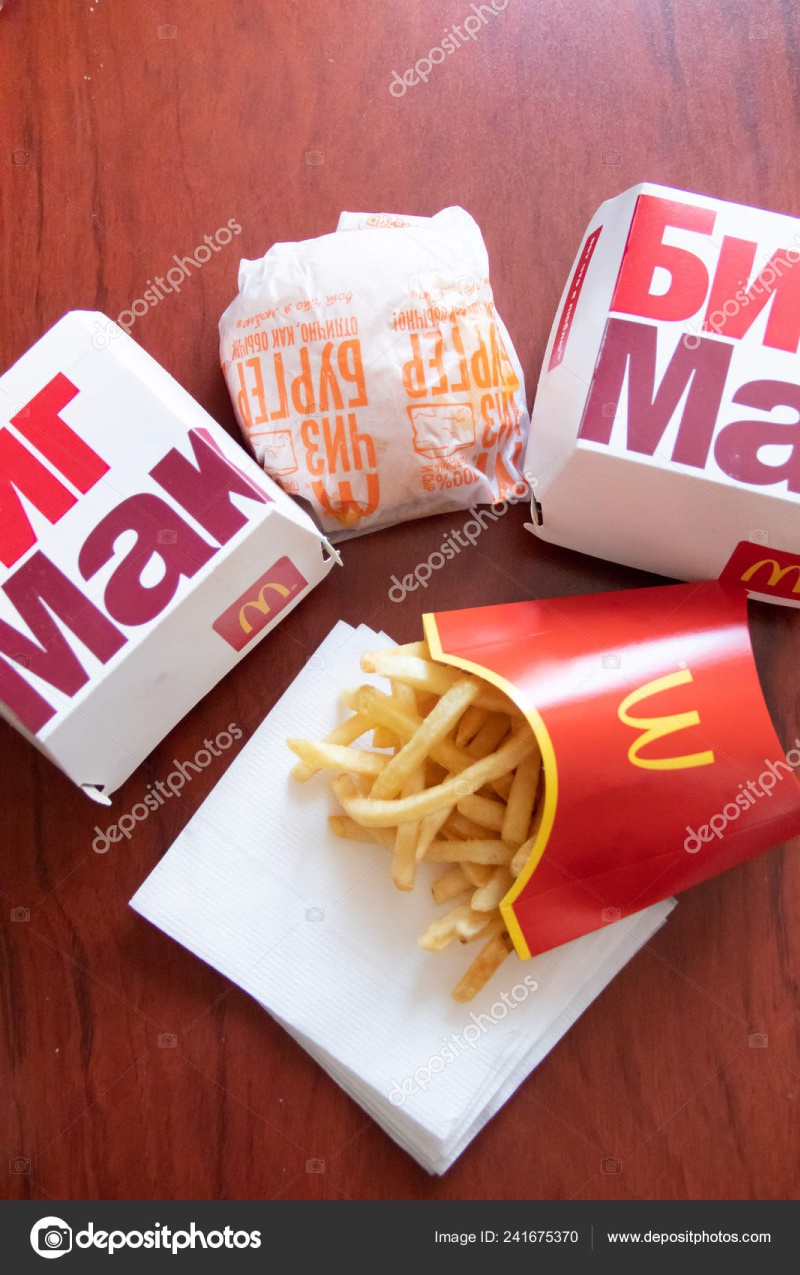mcdonalds: (600, 656, 723, 787)
